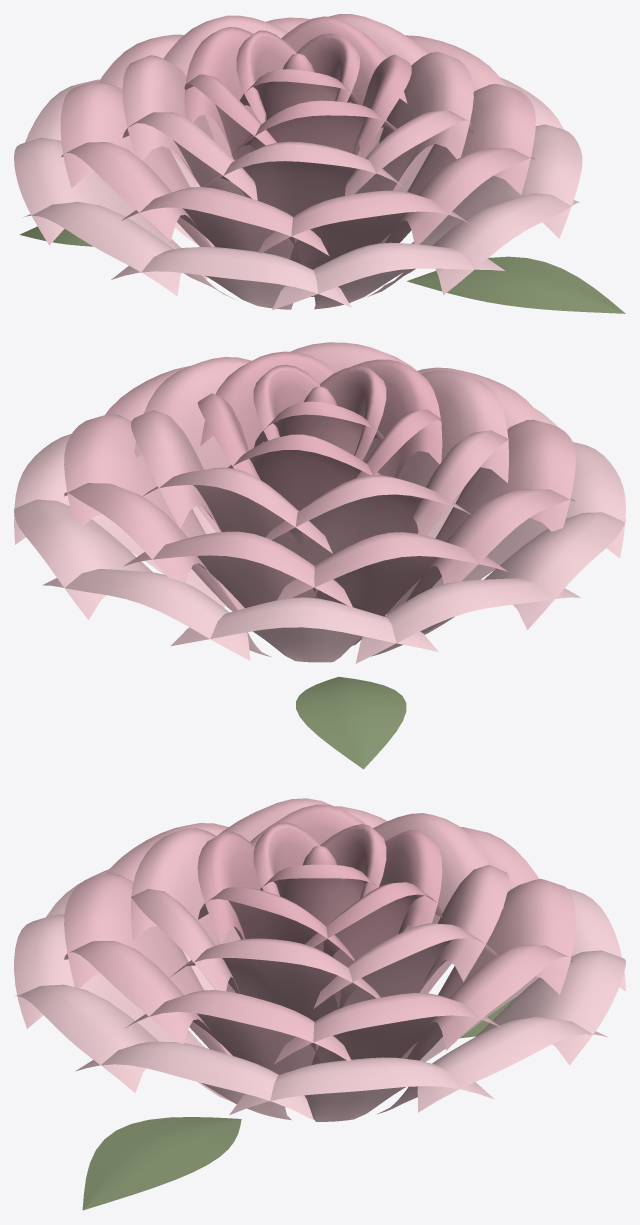
Rendered from flower.glb.
3 views of the same model, one above another, from view 1: azimuth 30°, elevation 25°; view 2: azimuth 150°, elevation 25°; view 3: azimuth 270°, elevation 25° (orthographic). The views are drawn at different scales.
Parts seen in each view (by area): view 1: Flower; view 2: Flower; view 3: Flower.
Boxes of the visible parts, box(x1,y1,x2,y2) form: Flower: box(14, 14, 625, 313); Flower: box(14, 342, 625, 769); Flower: box(14, 798, 625, 1210).
Size of the model in its own units: 0.3299 by 0.1541 by 0.33.
